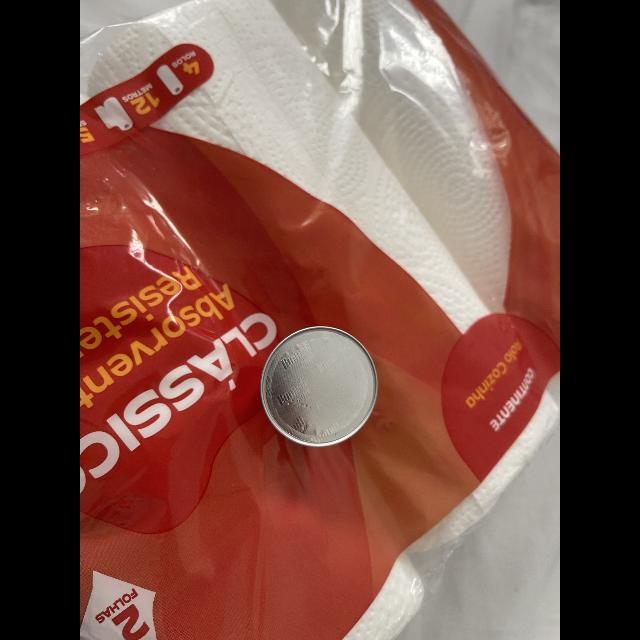intact_capsule: (256, 313, 384, 457)
